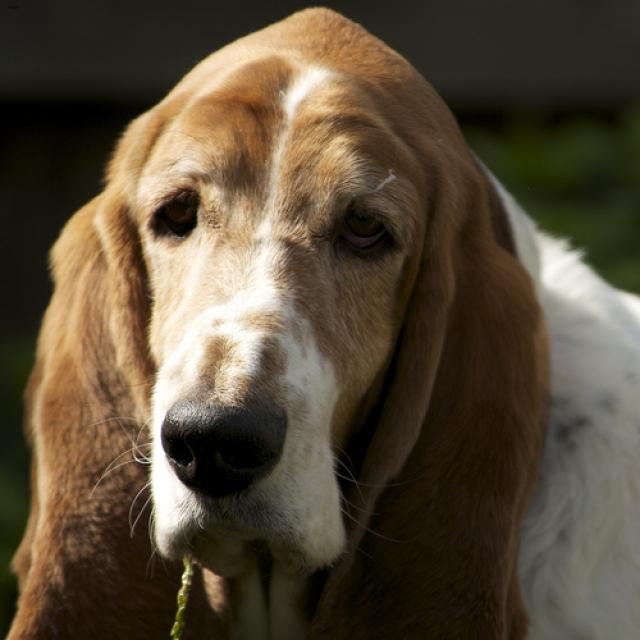dog-basset_hound: (1, 1, 637, 637)
